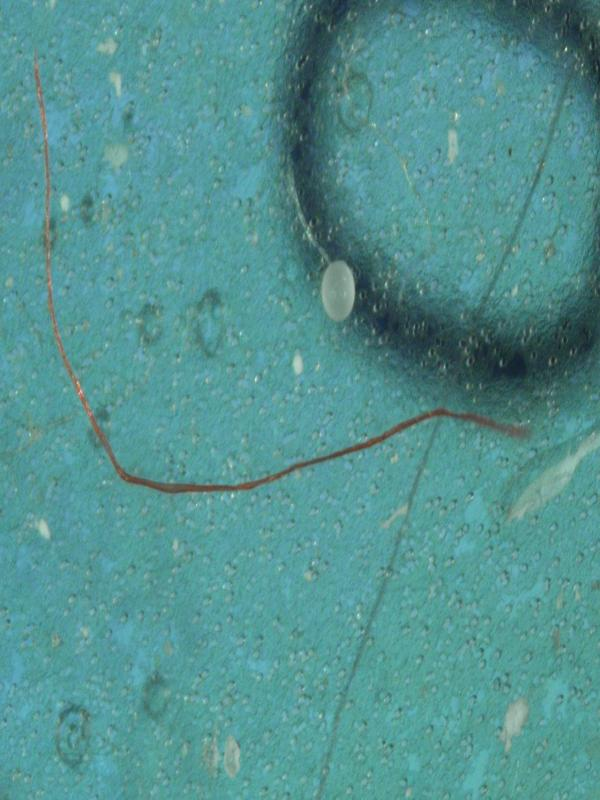microplastic: (32, 42, 532, 497), (272, 0, 599, 387)
